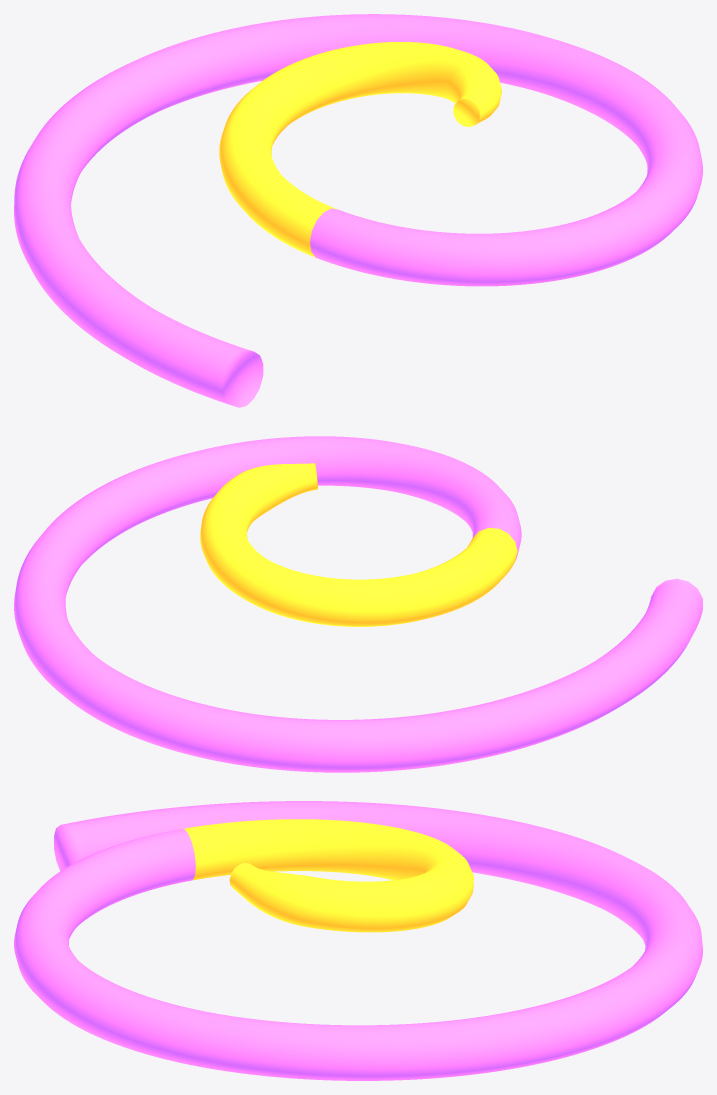
Rendered from bottlenose_dolphin_noodle.glb.
3 views of the same model, one above another, from view 1: azimuth 30°, elevation 25°; view 2: azimuth 150°, elevation 25°; view 3: azimuth 270°, elevation 25° (orthographic). The views are drawn at different scales.
Parts seen in each view (by area): view 1: Bottlenose dolphin | TURN COUNT NOODLE | T00_100, Bottlenose dolphin | TURN COUNT NOODLE | T100_200; view 2: Bottlenose dolphin | TURN COUNT NOODLE | T00_100, Bottlenose dolphin | TURN COUNT NOODLE | T100_200; view 3: Bottlenose dolphin | TURN COUNT NOODLE | T00_100, Bottlenose dolphin | TURN COUNT NOODLE | T100_200.
Boxes of the visible parts, x1,y1,x2,y2 form: Bottlenose dolphin | TURN COUNT NOODLE | T00_100: (14, 14, 702, 407); Bottlenose dolphin | TURN COUNT NOODLE | T100_200: (219, 42, 501, 257); Bottlenose dolphin | TURN COUNT NOODLE | T00_100: (14, 436, 702, 772); Bottlenose dolphin | TURN COUNT NOODLE | T100_200: (200, 463, 517, 626); Bottlenose dolphin | TURN COUNT NOODLE | T00_100: (14, 801, 702, 1080); Bottlenose dolphin | TURN COUNT NOODLE | T100_200: (183, 819, 473, 932).
Bounding box in the file's own units: 9.17 × 2.49 × 9.01.
